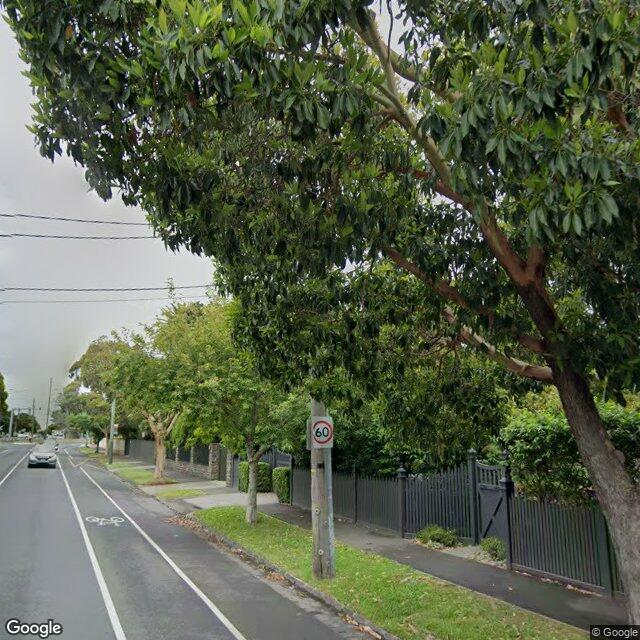timber-pole: (309, 393, 336, 581), (108, 400, 116, 464), (46, 377, 53, 428)
